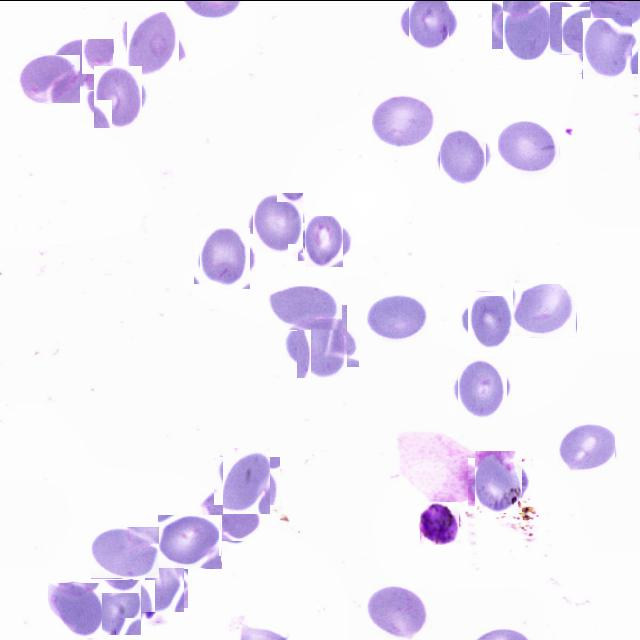red blood cell: (291, 310, 353, 372), (91, 526, 160, 578), (370, 92, 434, 148), (366, 585, 431, 640), (498, 120, 560, 176), (513, 282, 577, 336), (158, 514, 222, 568), (124, 15, 182, 74), (268, 285, 343, 330), (50, 38, 114, 90), (218, 452, 276, 508), (198, 490, 262, 540), (498, 0, 557, 54), (365, 294, 429, 343), (130, 554, 186, 610), (90, 68, 146, 124), (197, 230, 253, 286), (579, 20, 635, 76), (454, 361, 510, 416), (250, 194, 305, 250), (19, 54, 81, 103), (48, 582, 103, 637), (534, 1, 591, 54), (557, 421, 615, 473), (472, 454, 526, 508), (438, 130, 490, 182), (464, 292, 516, 344), (92, 580, 144, 632), (405, 0, 454, 45), (302, 218, 346, 264)
schizont: (418, 501, 461, 543)
